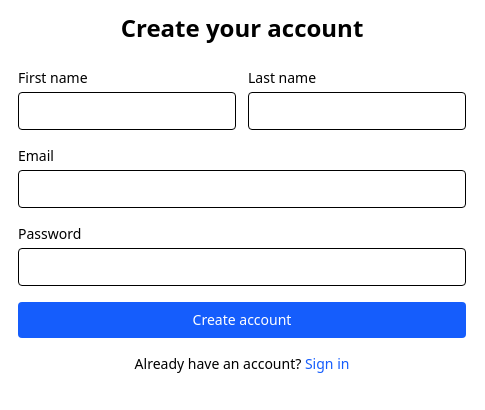
Scenario: RegisterPage — validation › shows password length error when password is too short
Type "Jane" into the field labelled "First name" at {"x": 127, "y": 111}, box 18,92 -> 236,130
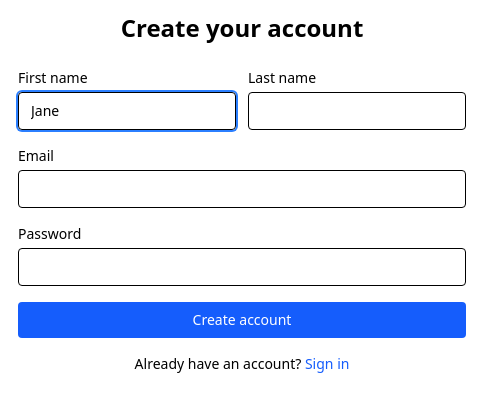
Type "Doe" into the field labelled "Last name" at {"x": 357, "y": 111}, box 248,92 -> 466,130
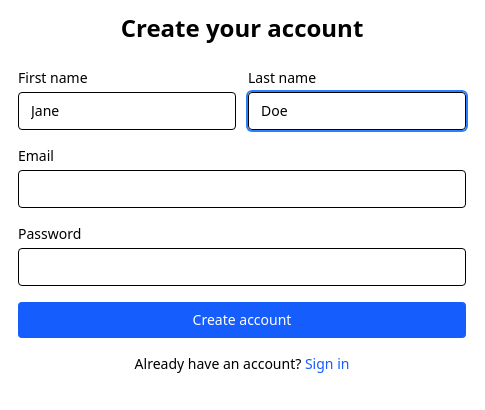
Type "jane@test.com" into the field labelled "Email" at {"x": 242, "y": 189}, box 18,170 -> 466,208
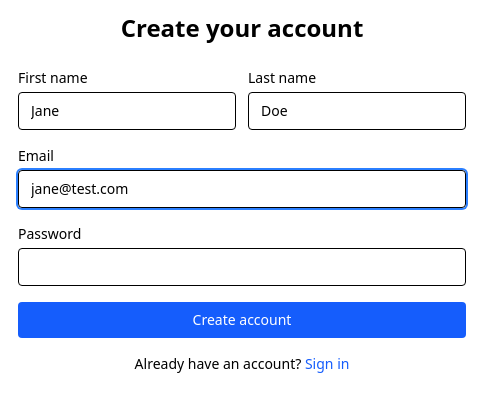
Type "short" into the password field labelled "Password" at {"x": 242, "y": 267}, box 18,248 -> 466,286
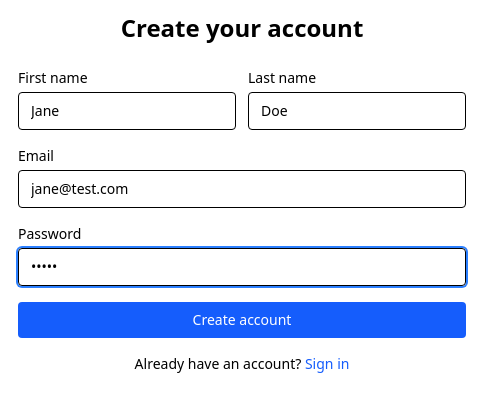
Click the button "Create account" at {"x": 242, "y": 320}, box 18,302 -> 466,338
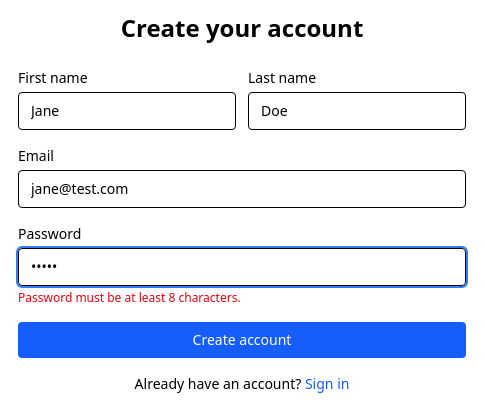
Check: the text "Password must be at least 8 characters." is shown, box 18,289 -> 241,306
